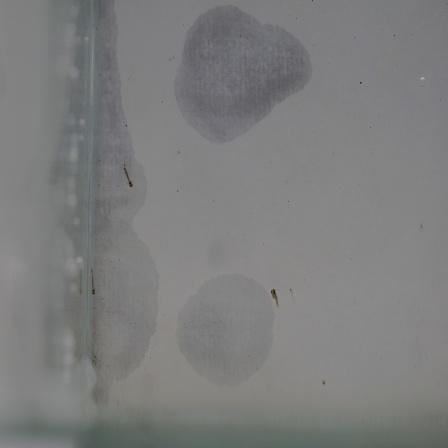Jentik-Nyamuk: (118, 159, 137, 192), (85, 265, 99, 298), (265, 286, 284, 310)
